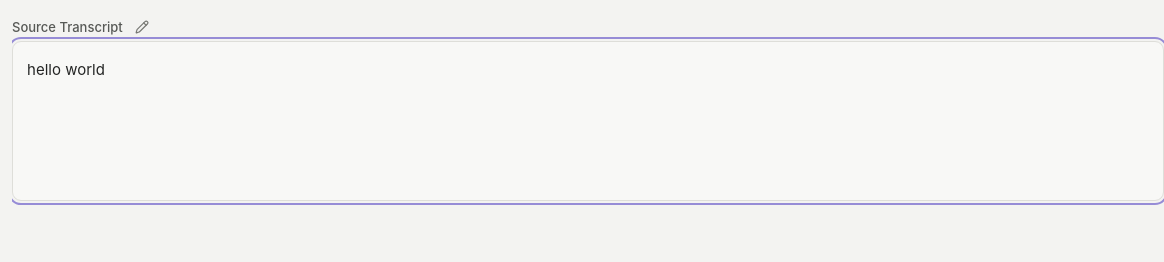
it: EditCanvas model › shows a back control only after choosing an operation type
Press Home in the field with class "edit-canvas"
Press ArrowRight in the field with class "edit-canvas"
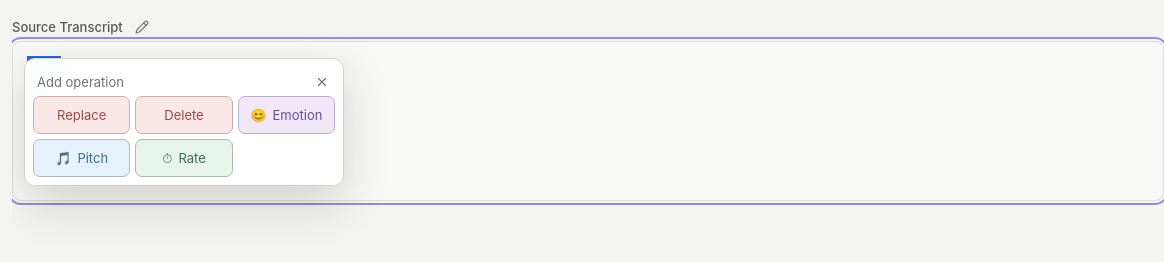
Result: the text "Add operation" is shown at left=37, top=74, right=124, bottom=90
Click the button "replace".
click(82, 115)  # box left=33, top=96, right=130, bottom=134
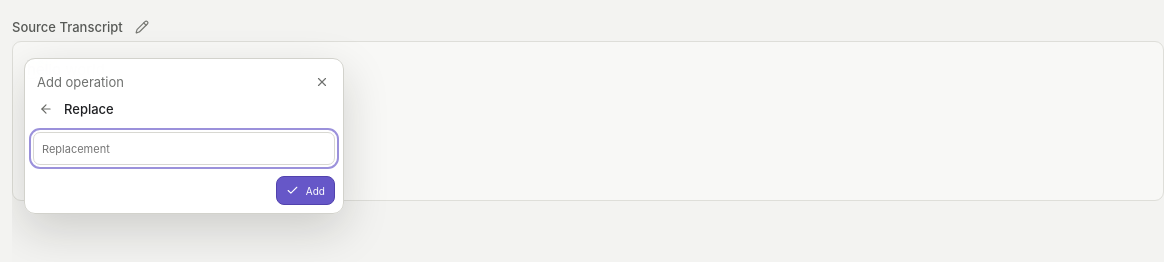
Result: the button named "Back to operation types" is shown at left=33, top=96, right=59, bottom=122
